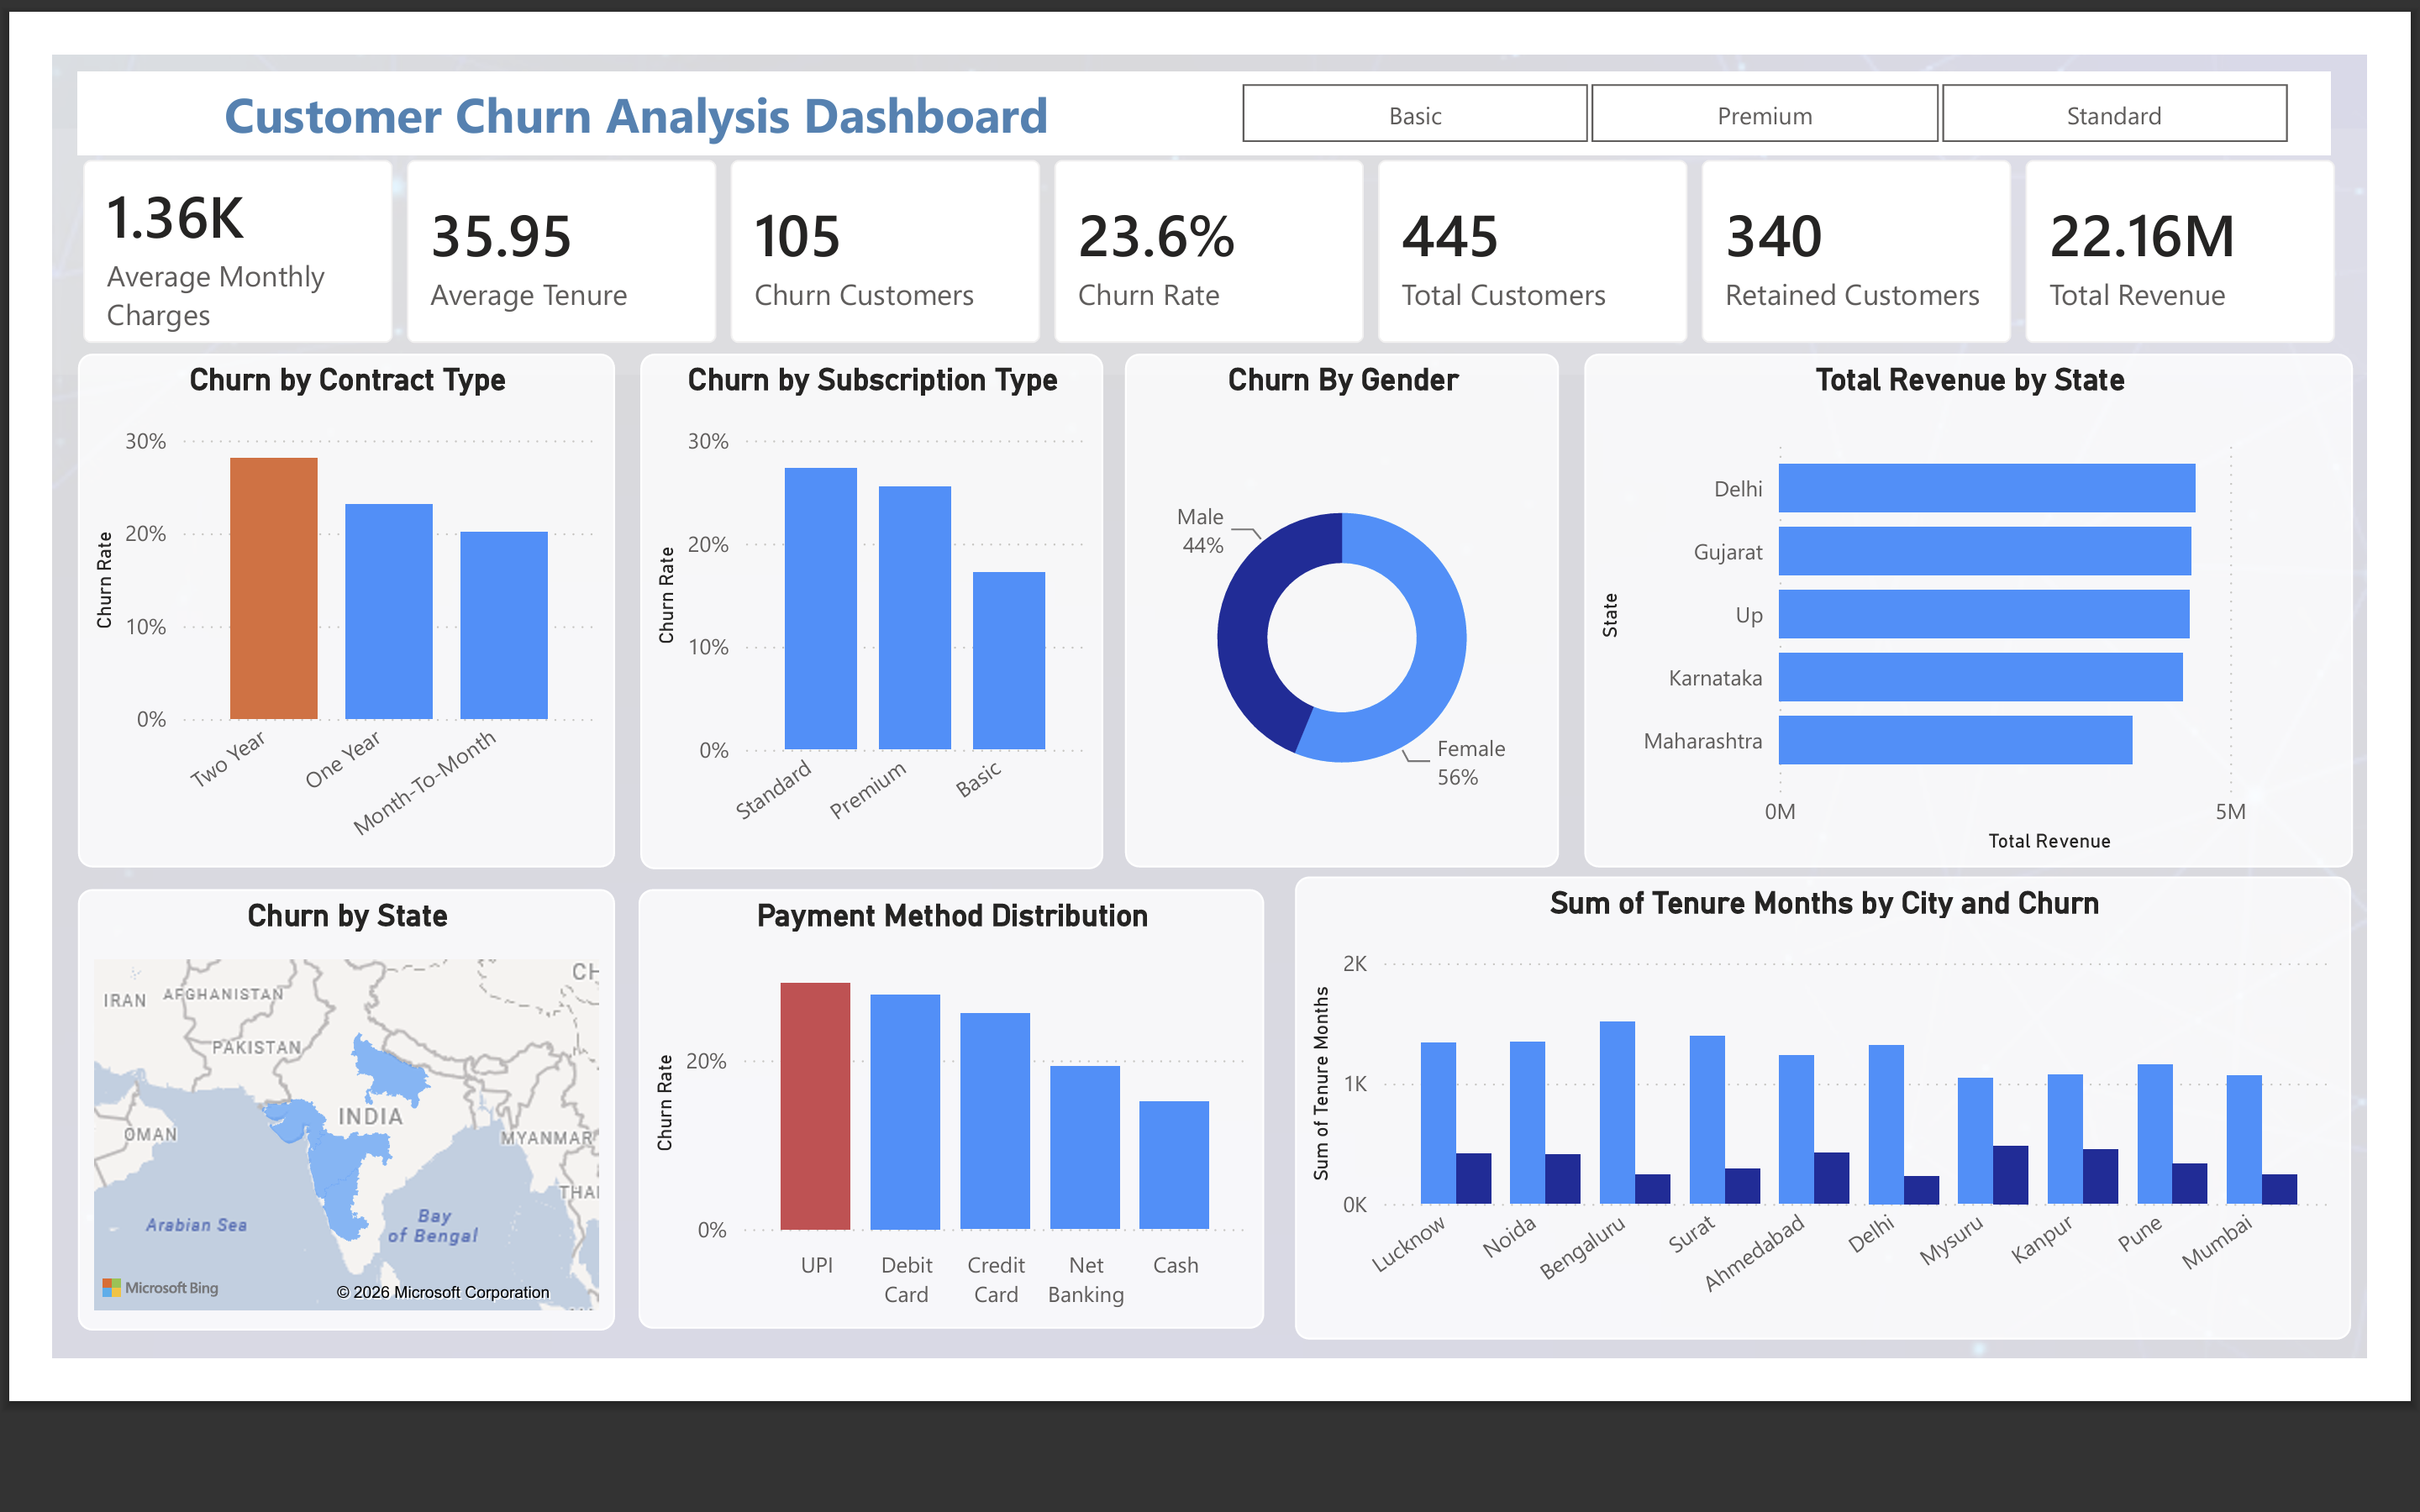

Layout of this report page (visuals, bound fields, positions):
{"tool":"powerbi","page":{"name":"Page 1","canvas":[1280,720],"ordinal":0},"visuals":[{"type":"cardVisual","fields":{"Data":["Measure Query.Average Monthly Charges","Measure Query.Average Tenure","Measure Query.Churn Customers","Measure Query.Churn Rate","Measure Query.Total Customers","Measure Query.Retained Customers","Measure Query.Total Revenue"]},"box":[0,40.7,1279.5,135.9],"z":0},{"type":"columnChart","title":"Churn by Contract Type ","fields":{"Category":["Clean_churn_Data1.Contract_Type"],"Y":["Measure Query.Churn Rate"]},"box":[13.9,164.8,297.4,284.6],"z":1000},{"type":"columnChart","title":"Churn by Subscription Type ","fields":{"Y":["Measure Query.Churn Rate"],"Category":["Clean_churn_Data1.Subscription_Type"]},"box":[325,165,256.5,285.3],"z":2000},{"type":"filledMap","title":"Churn by State ","fields":{"Category":["Clean_churn_Data1.State"]},"box":[13.9,461.1,297.4,243.9],"z":3000},{"type":"actionButton","box":[21,9,80,32],"z":4000},{"type":"clusteredBarChart","fields":{"Y":["Measure Query.Total Revenue"],"Category":["Clean_churn_Data1.State"]},"box":[847.5,164.9,424.4,283.8],"z":5000},{"type":"donutChart","title":"Churn By Gender","fields":{"Category":["Clean_churn_Data1.Gender"],"Y":["Sum(Clean_churn_Data1.Churn_Flag)"]},"box":[593.4,164.9,239.2,283.8],"z":6000},{"type":"clusteredColumnChart","title":"Payment Method Distribution ","fields":{"Category":["Clean_churn_Data1.Payment_Method"],"Y":["Measure Query.Churn Rate"]},"box":[324.4,460.9,346,243.3],"z":7000},{"type":"textbox","box":[13.9,8.6,1249.6,46],"z":8000},{"type":"clusteredColumnChart","title":"Sum of Tenure Months by City and Churn","fields":{"Category":["Clean_churn_Data1.City"],"Y":["Sum(Clean_churn_Data1.Tenure_Months)"],"Series":["Clean_churn_Data1.Churn"]},"box":[686.6,454.1,583.9,255.5],"z":9000}]}

Visuals, with their boxes on the page's 1280x720 design canvas (x1, y1, x2, y2). These are canvas units, not pixel positions in the 2420x1512 screenshot, which may show the page scaled, cropped or inside an application window:
cardVisual - Measure Query.Average Monthly Charges x Measure Query.Average Tenure: locate(0, 41, 1280, 177)
"Churn by Contract Type " columnChart: locate(14, 165, 311, 449)
"Churn by Subscription Type " columnChart: locate(325, 165, 582, 450)
"Churn by State " filledMap: locate(14, 461, 311, 705)
actionButton: locate(21, 9, 101, 41)
clusteredBarChart - Measure Query.Total Revenue x Clean_churn_Data1.State: locate(848, 165, 1272, 449)
"Churn By Gender" donutChart: locate(593, 165, 833, 449)
"Payment Method Distribution " clusteredColumnChart: locate(324, 461, 670, 704)
textbox: locate(14, 9, 1264, 55)
"Sum of Tenure Months by City and Churn" clusteredColumnChart: locate(687, 454, 1270, 710)
